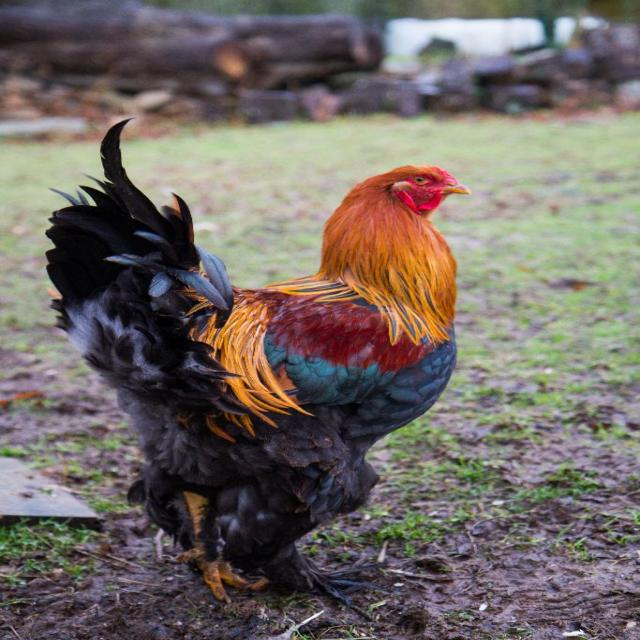Chicken: (61, 139, 484, 609)
